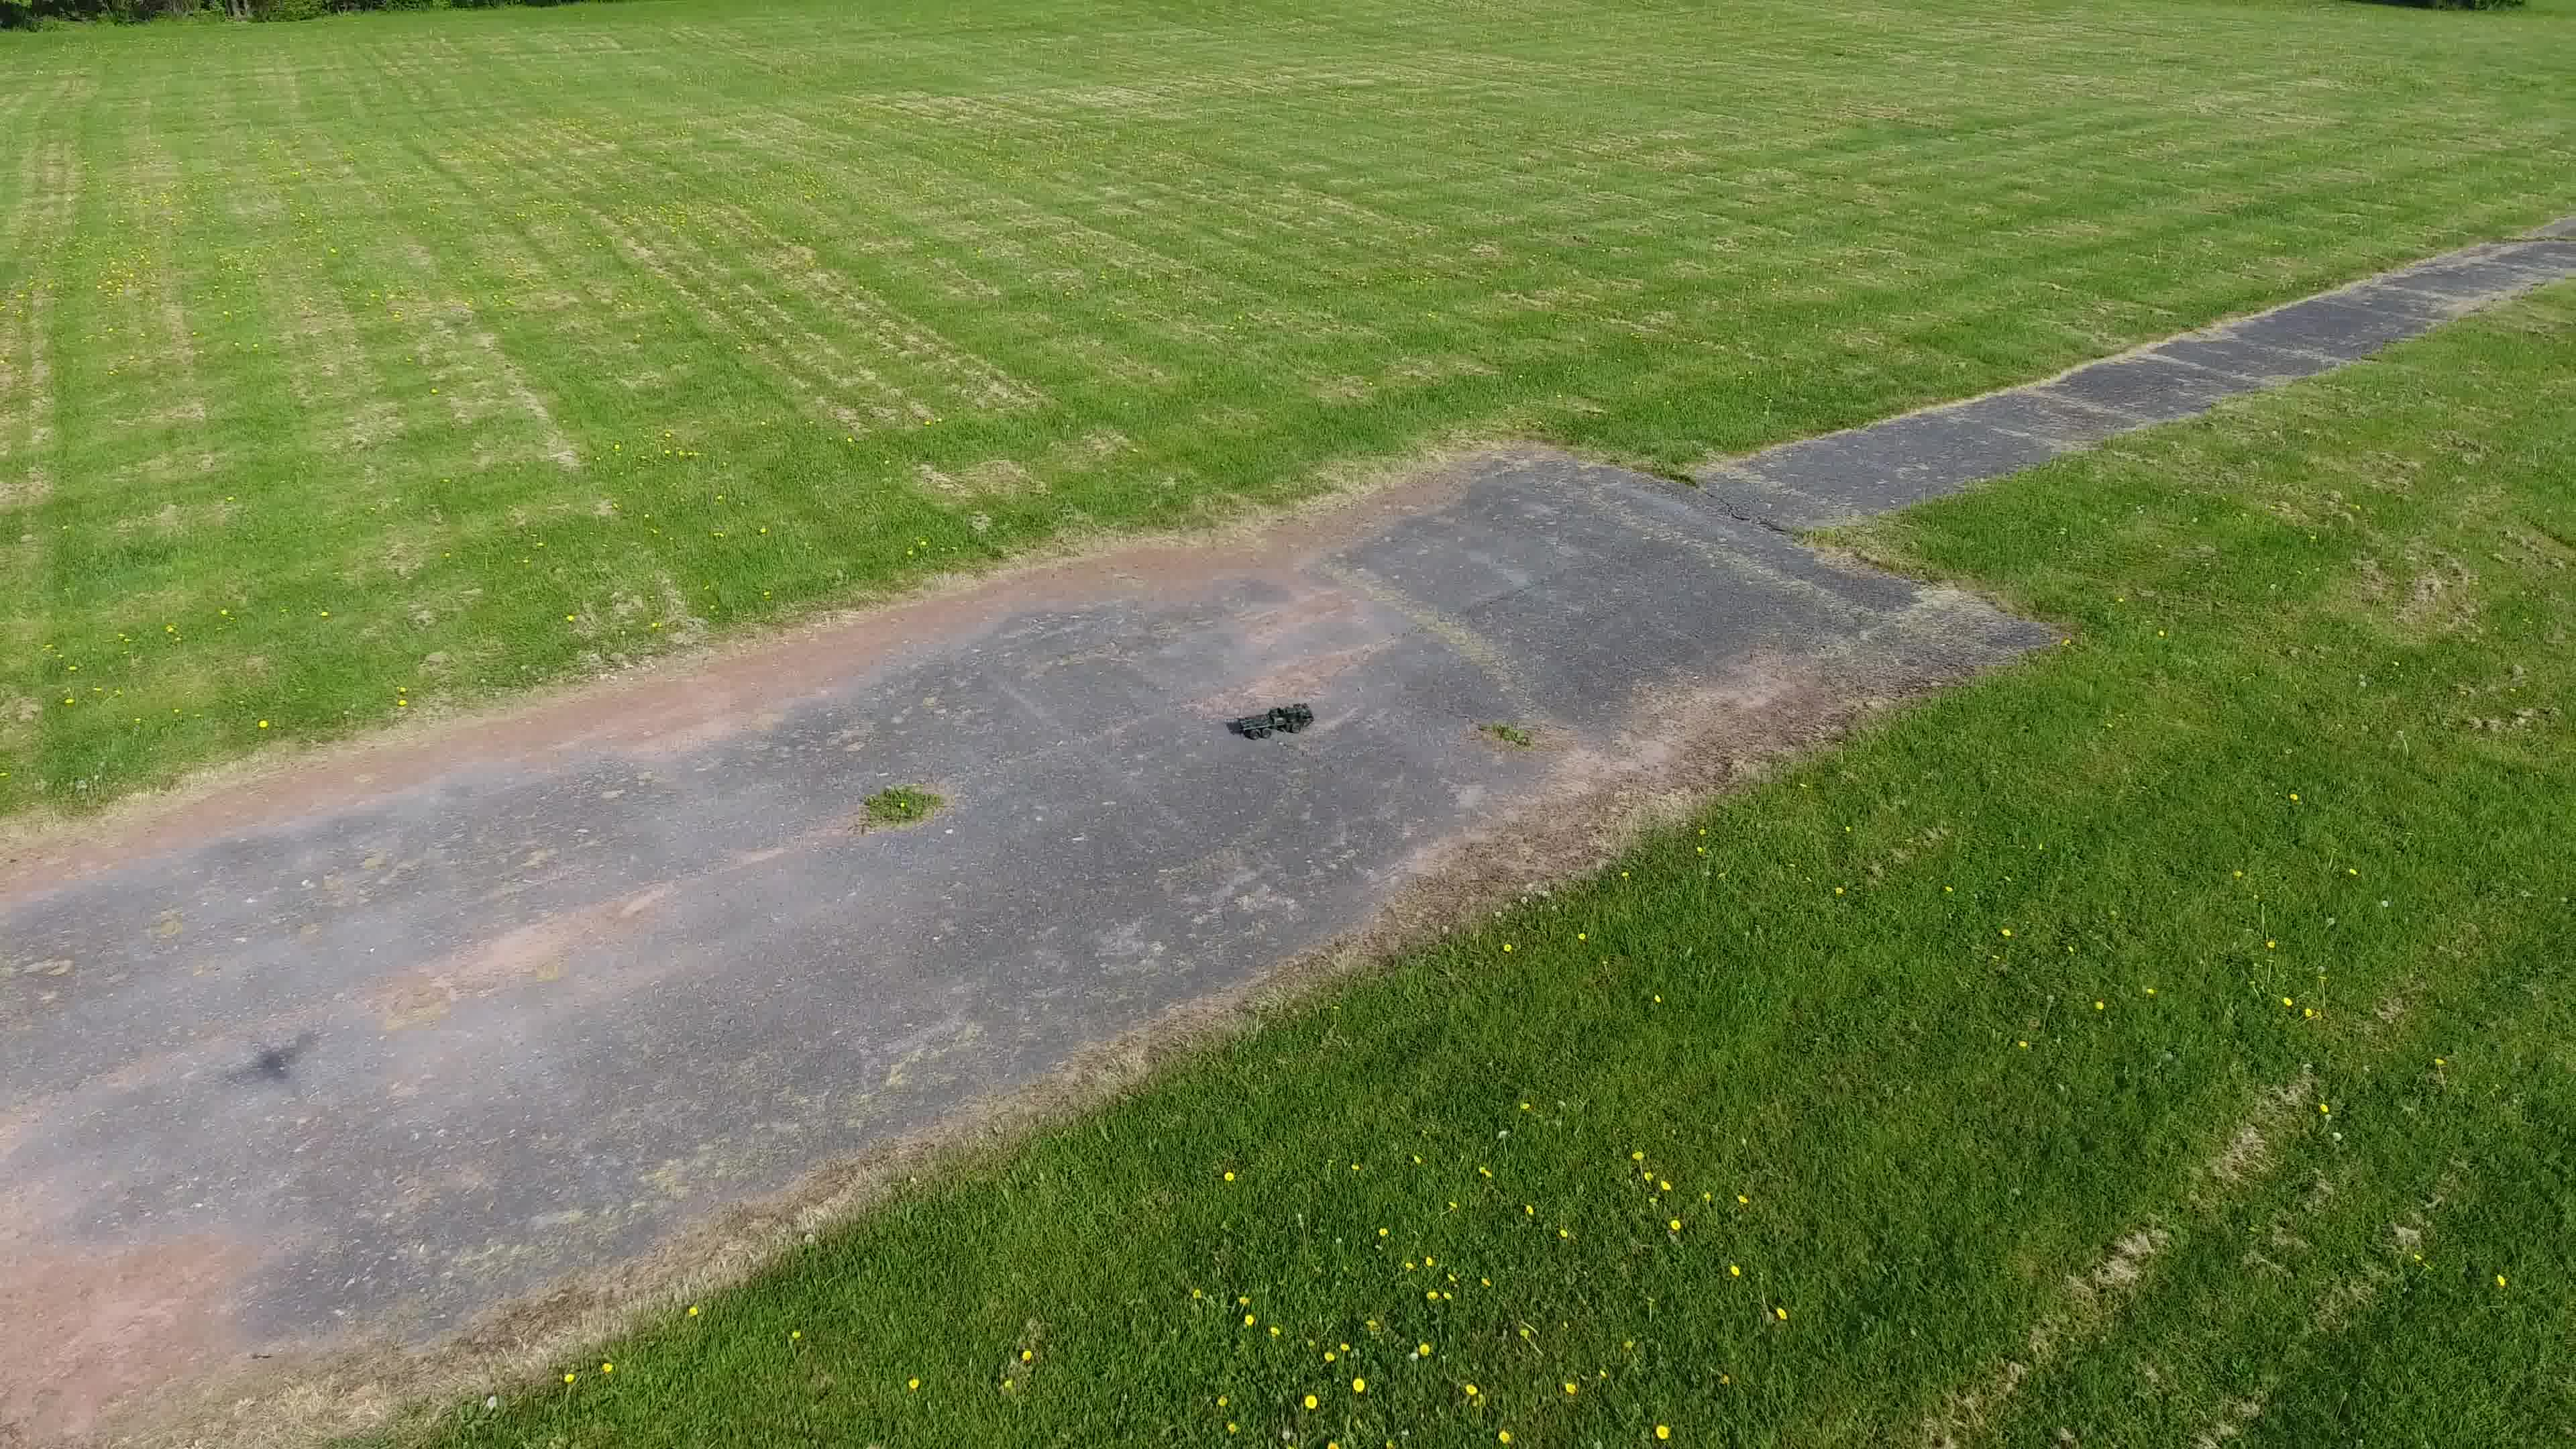transporter9: (1233, 699, 1316, 741)
